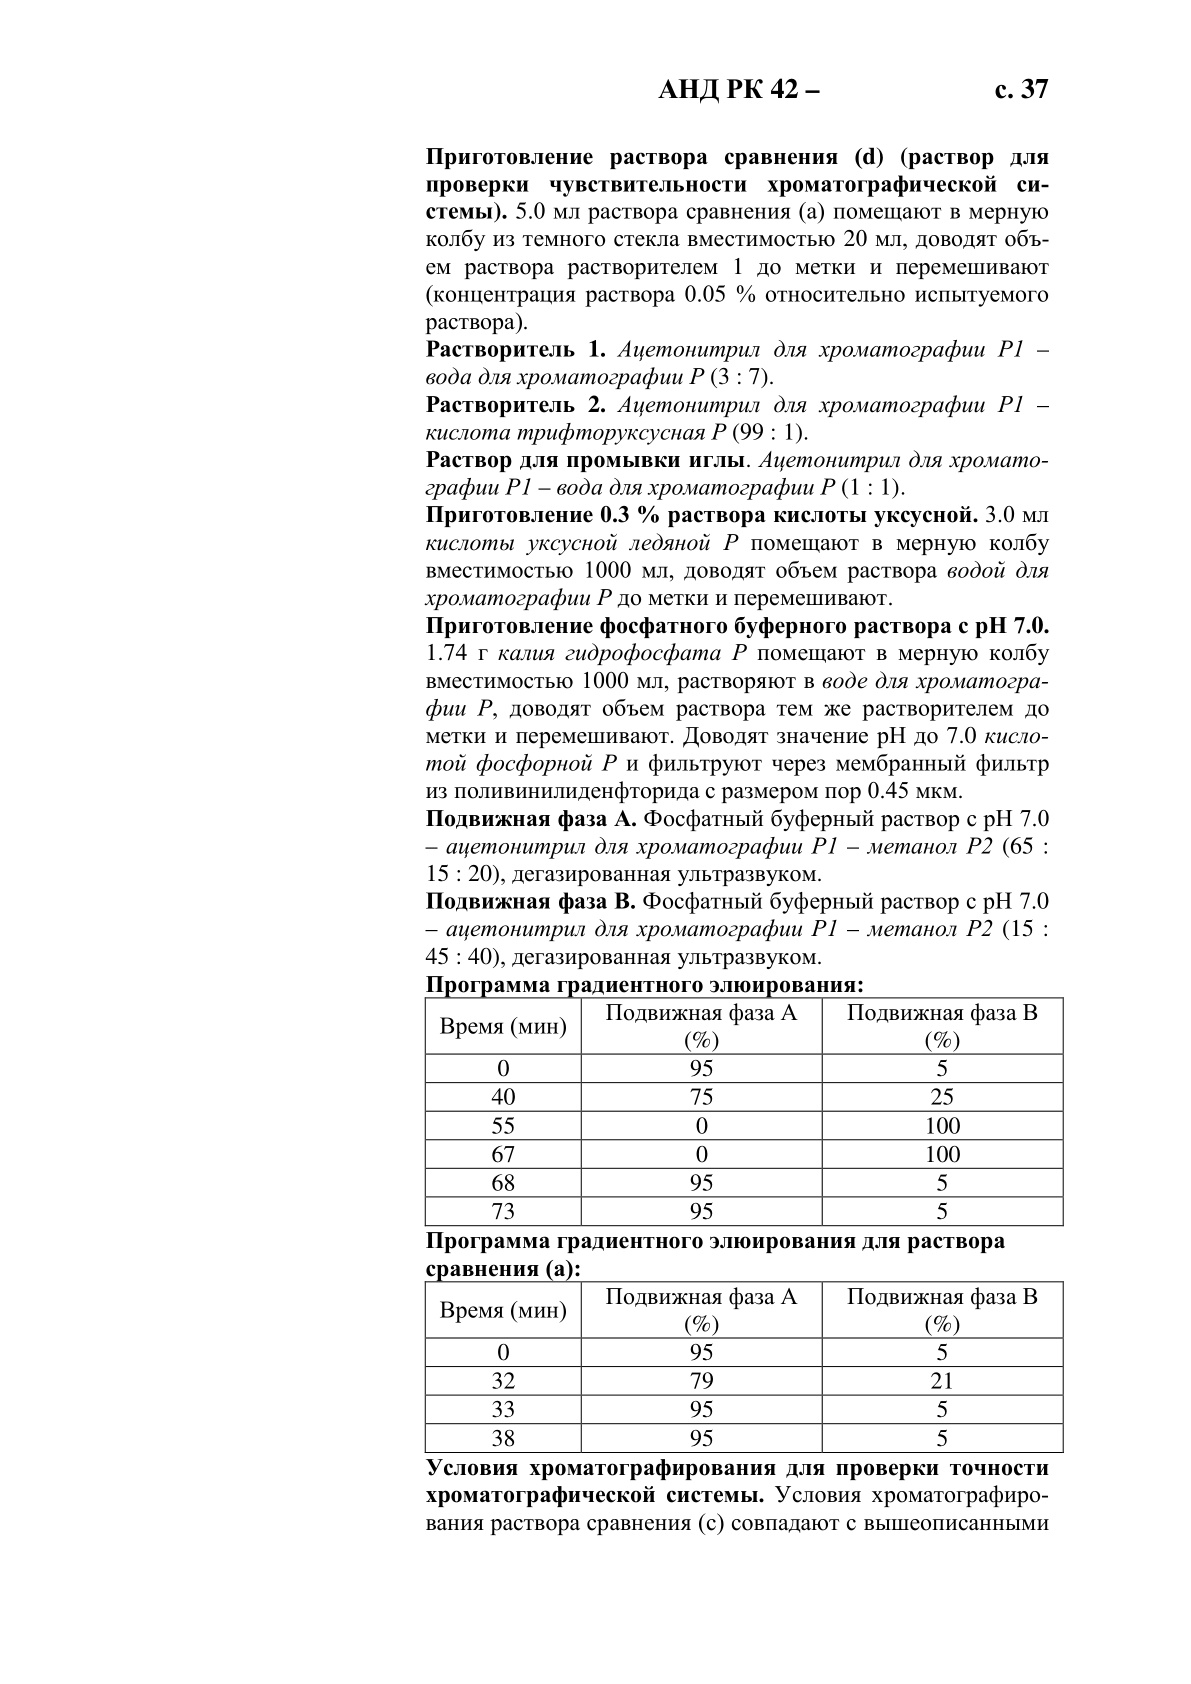full_lined: (424, 996, 1065, 1227), (424, 1279, 1065, 1453)
